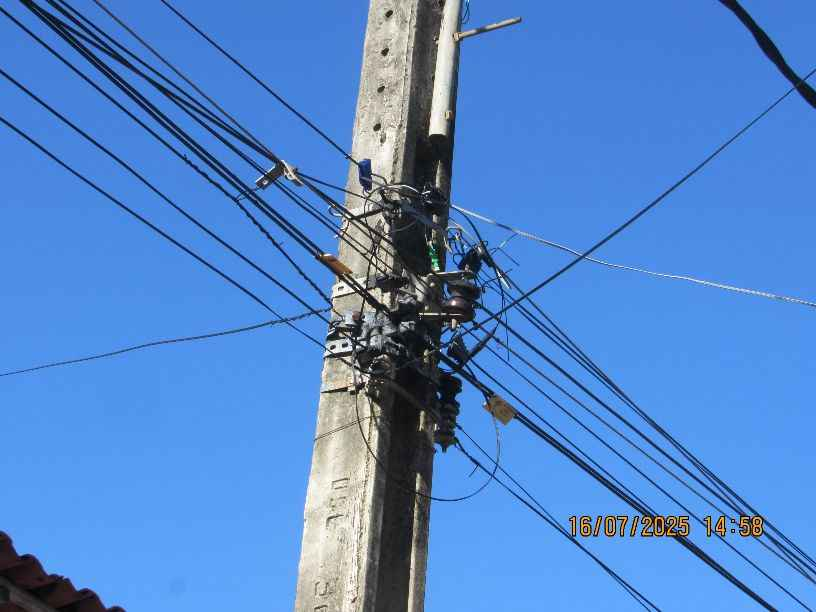drop: (337, 139, 465, 219), (447, 236, 523, 317)
fibra_optica: (406, 351, 525, 442), (298, 246, 382, 341)
